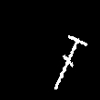double_crochet: (55, 35, 86, 88)
